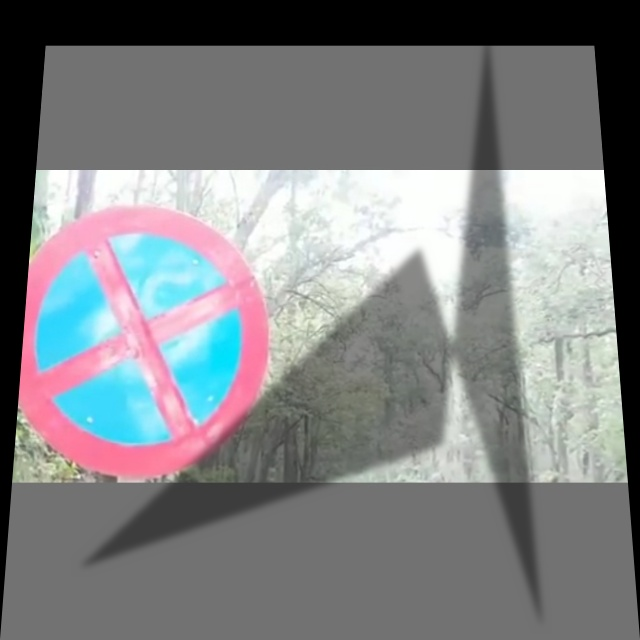No_Stopping_or_Standing: (27, 221, 260, 447)
